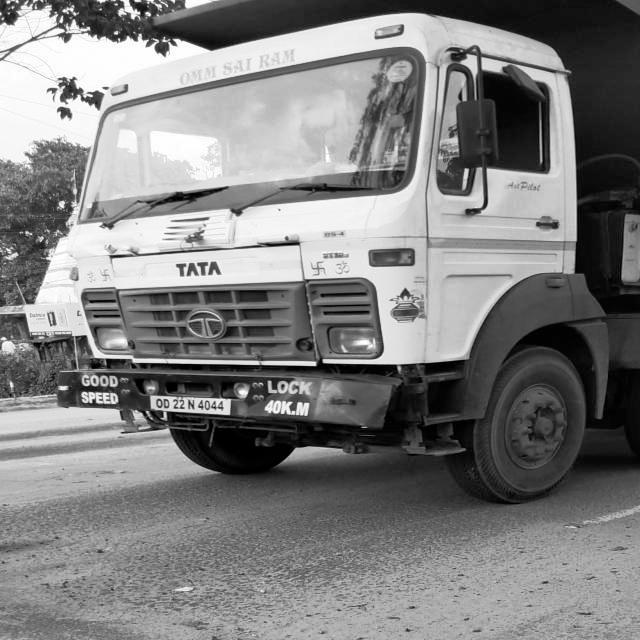HCV: (74, 45, 640, 496)
